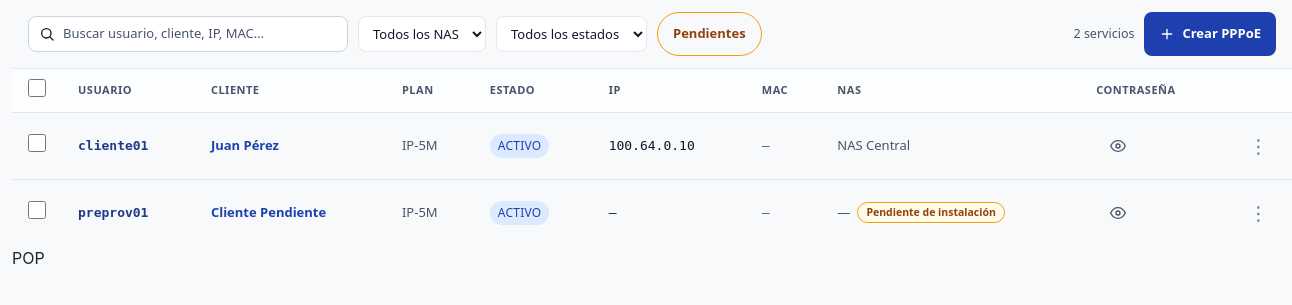
Scenario: C1: chip "Pendientes" y el invariante anti-TOCTOU de la selección › (b) con el chip ON el botón "Seleccionar los N del filtro" SIGUE visible; apagarlo (con el NAS ya limpiado por el chip) lo saca por falta de filtro
Select "NAS Central" in the dropdown named "filtrar por nas" at (422, 34), box x1=358 y1=16 x2=486 y2=52
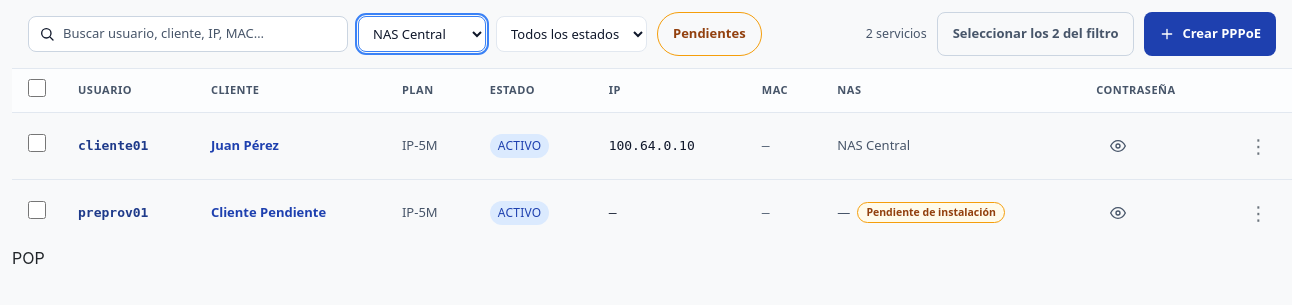
expect the button "Seleccionar los 2 del filtro" is shown: met, box x1=937 y1=12 x2=1134 y2=56
Click the button "Pendientes" at (709, 34), box x1=657 y1=12 x2=762 y2=56
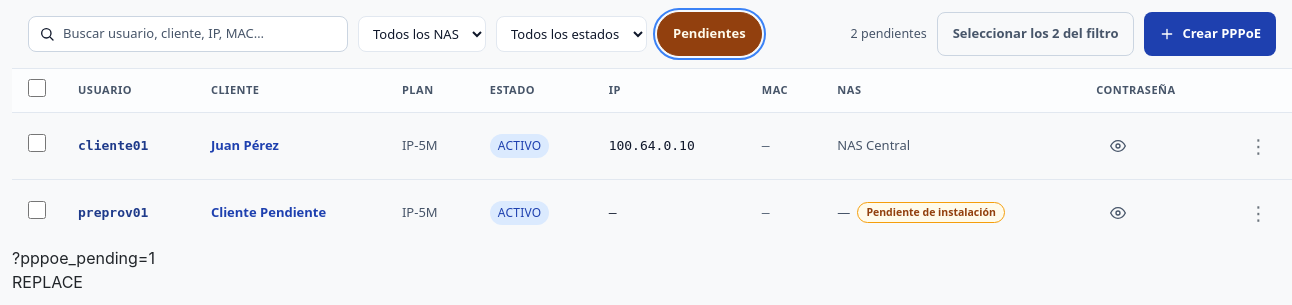
expect the button "Seleccionar los 2 del filtro" is shown: met, box x1=937 y1=12 x2=1134 y2=56
Click the button "Pendientes" at (709, 34), box x1=657 y1=12 x2=762 y2=56
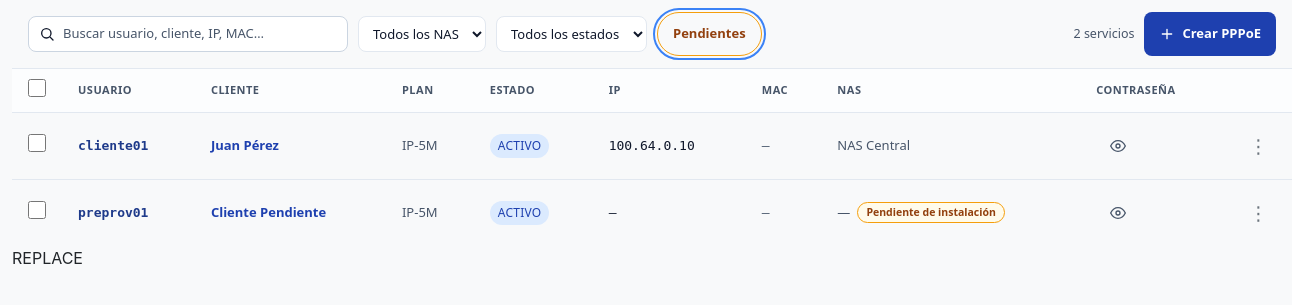
expect the button "Seleccionar los 2 del filtro" is gone: met
